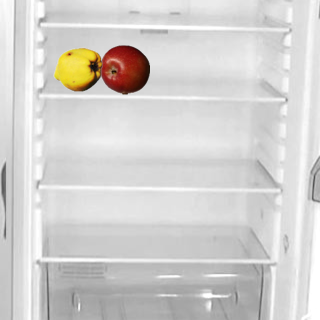Apple Braeburn: (99, 44, 149, 94)
Quince: (52, 44, 102, 94)
